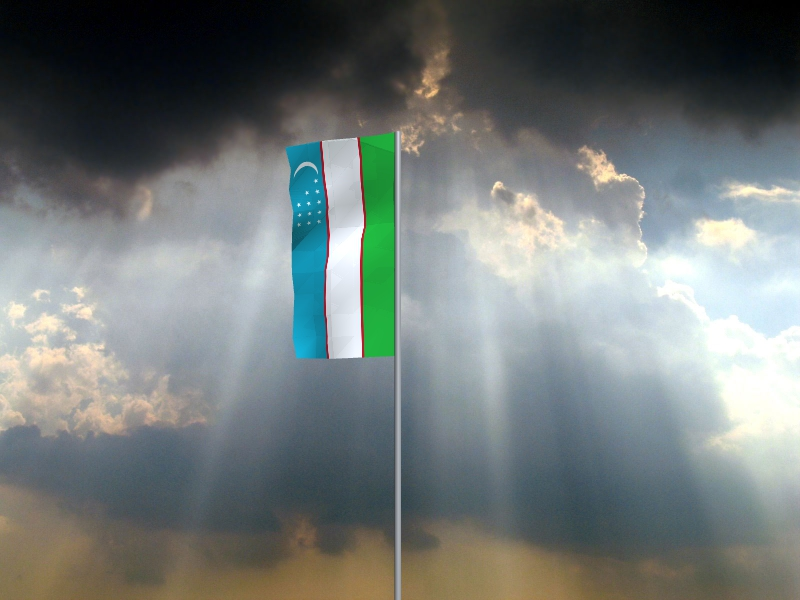uz: (285, 133, 395, 361)
